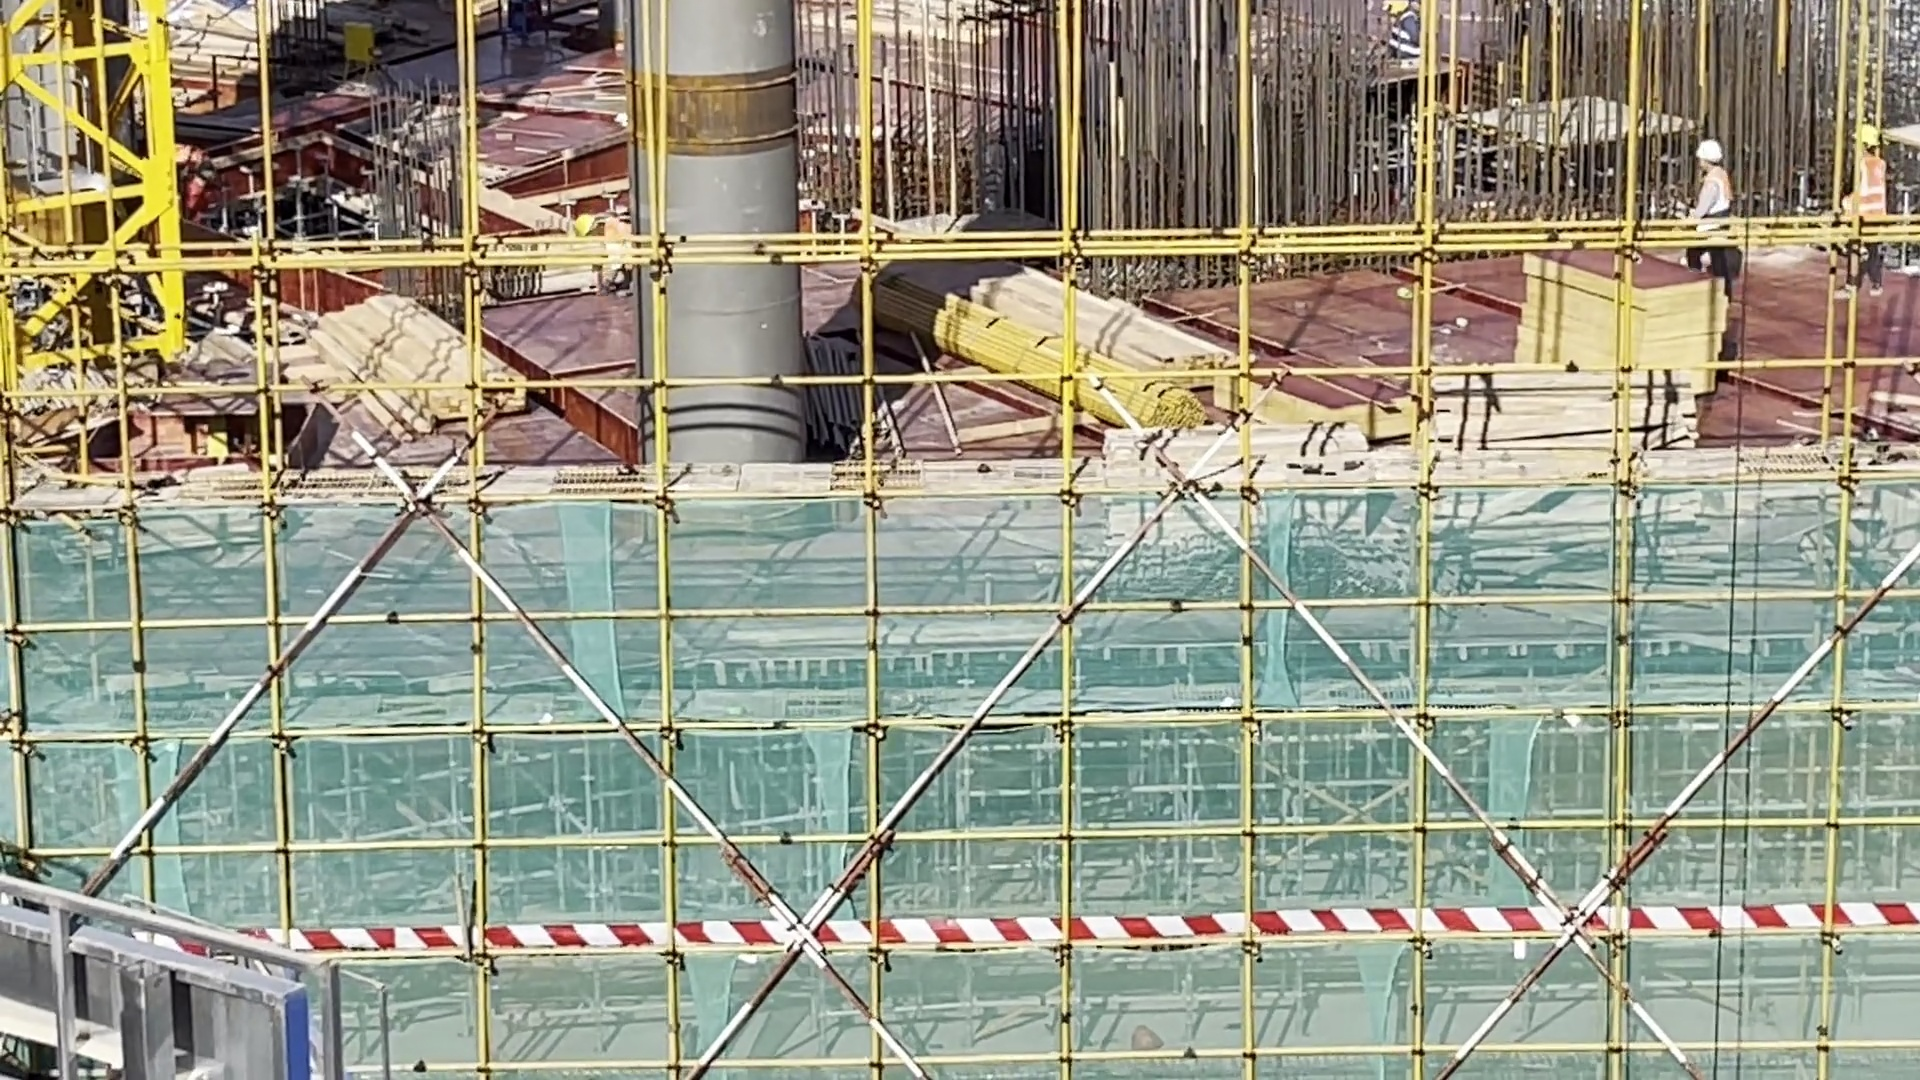helmet: (1853, 131, 1874, 159), (1699, 142, 1726, 164), (1398, 1, 1415, 11)
person: (566, 206, 643, 301), (1846, 120, 1889, 283), (1699, 128, 1738, 280), (1504, 1, 1571, 58), (176, 158, 219, 231), (1376, 6, 1424, 65)
vest: (1834, 167, 1889, 229), (599, 217, 643, 269), (1699, 176, 1739, 221), (1396, 11, 1426, 57), (193, 171, 228, 209), (1523, 1, 1559, 37)
